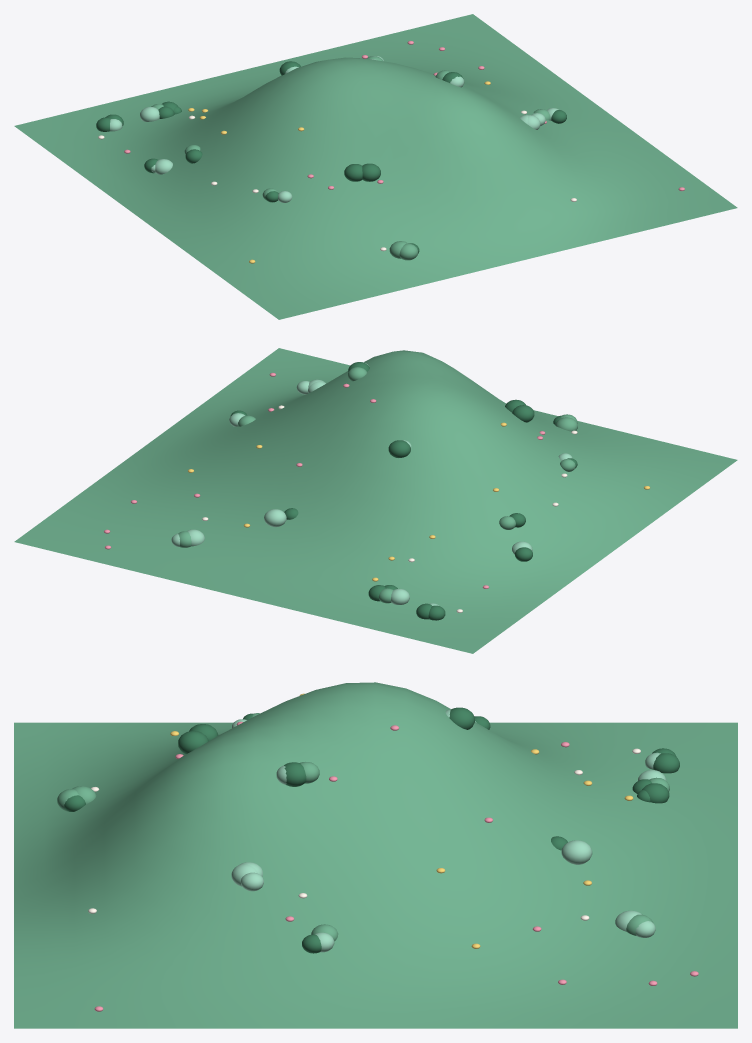
The model's file is land_meadow.glb.
The picture shows the model from 3 angles, top to bottom: view 1: azimuth 30°, elevation 25°; view 2: azimuth 150°, elevation 25°; view 3: azimuth 270°, elevation 25°; orthographic projection. The views are drawn at different scales.
Visible parts, largest first — view 1: land_meadow; view 2: land_meadow; view 3: land_meadow.
Boxes of the visible parts, x1,y1,x2,y2 form: land_meadow: (14,14,737,319); land_meadow: (14,348,737,653); land_meadow: (14,682,737,1028).
Size of the model in its own units: 40 by 9.75 by 40.
1 material, 1 textured.
